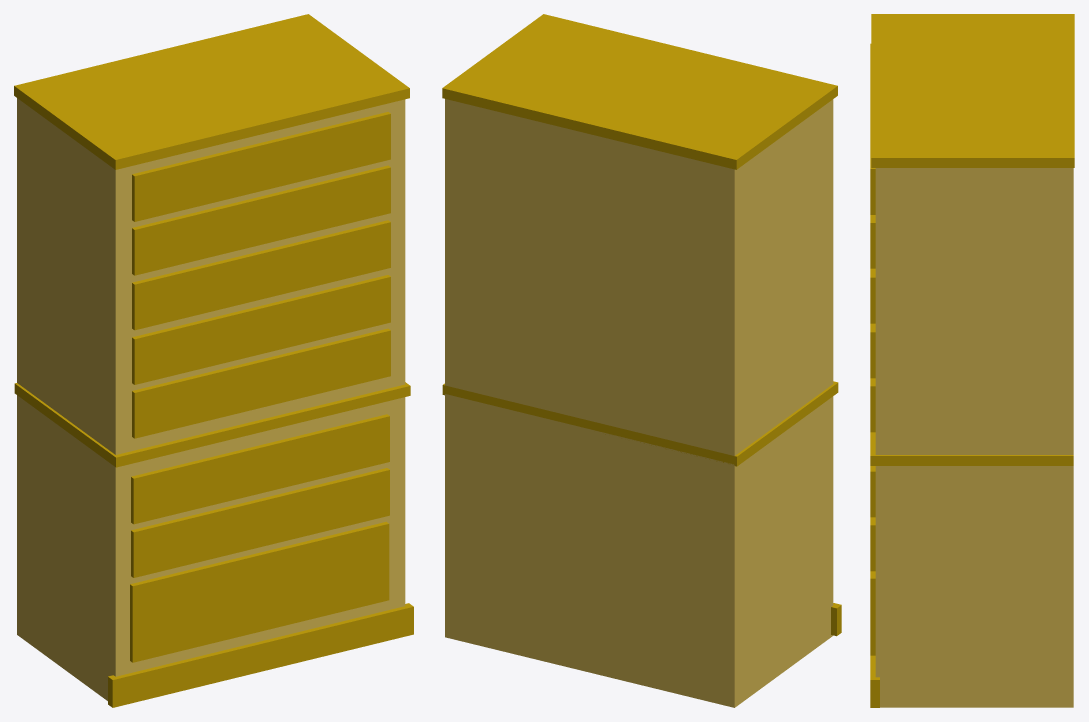
Rendered from sweethome3d-contributions-high-boy-dresser-183.glb.
The picture shows the model from 3 angles, left to right: view 1: azimuth 30°, elevation 25°; view 2: azimuth 150°, elevation 25°; view 3: azimuth 270°, elevation 25°; orthographic projection.
Parts seen in each view (by area): view 1: top_section, bottom_section, top, drawer_8, drawer_3, drawer_2, drawer_5, drawer_7, drawer_6, drawer_1, drawer_4, bottom_trim (+1 smaller); view 2: top_section, bottom_section, top, separator; view 3: top_section, bottom_section, top, separator, drawer_1, drawer_8, bottom_trim.
Boxes of the visible parts, box(x1,y1,x2,y2) form: top_section: box(17, 98, 405, 454); bottom_section: box(17, 395, 405, 700); top: box(14, 14, 409, 169); drawer_8: box(130, 521, 389, 662); drawer_3: box(132, 220, 390, 330); drawer_2: box(132, 165, 390, 275); drawer_5: box(132, 328, 390, 438); drawer_7: box(131, 468, 389, 577); drawer_6: box(131, 414, 389, 524); drawer_1: box(132, 112, 390, 221); drawer_4: box(132, 275, 390, 384); bottom_trim: box(108, 603, 413, 707); top_section: box(445, 99, 833, 455); bottom_section: box(445, 394, 833, 707); top: box(442, 14, 837, 169); separator: box(442, 381, 838, 466); top_section: box(875, 168, 1073, 454); bottom_section: box(875, 466, 1073, 707); top: box(871, 14, 1074, 167); separator: box(870, 432, 1073, 465); drawer_1: box(870, 43, 875, 214); drawer_8: box(870, 571, 875, 655); bottom_trim: box(870, 655, 879, 707).
Bounding box in the file's own units: 3.17 × 5.53 × 1.86.
